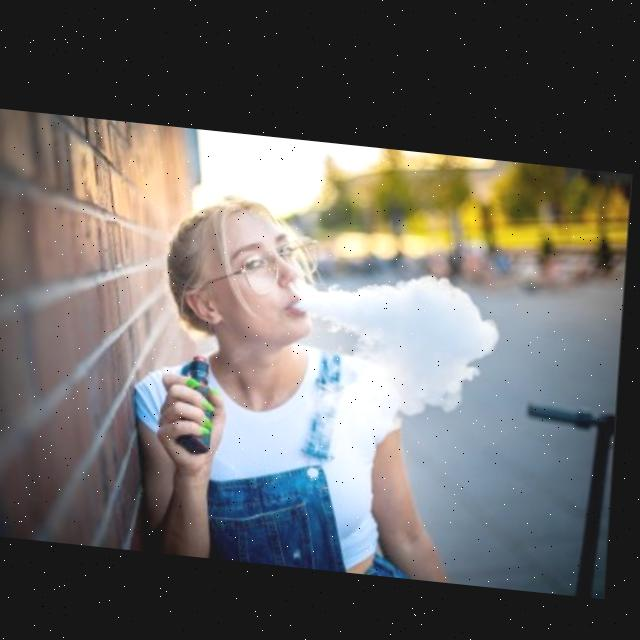vape: (181, 348, 221, 450)
